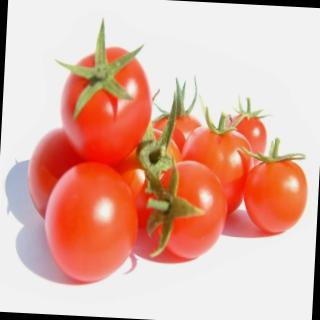Tomat: (49, 16, 158, 168), (42, 160, 143, 287), (179, 98, 258, 217), (143, 158, 231, 264), (238, 136, 312, 236), (118, 114, 186, 201), (26, 126, 85, 222), (150, 74, 205, 153), (228, 96, 273, 168), (152, 111, 204, 140)
